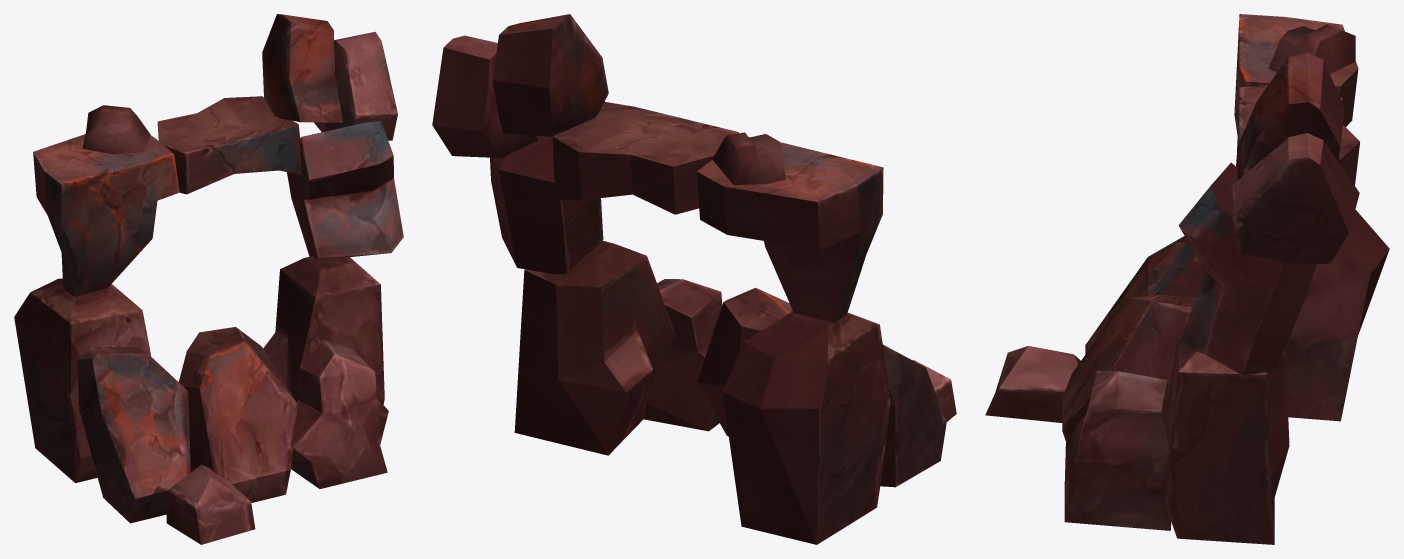
The model's file is huoguanshizhu04.FBX.
The picture shows the model from 3 angles, left to right: view 1: azimuth 30°, elevation 25°; view 2: azimuth 150°, elevation 25°; view 3: azimuth 270°, elevation 25°; orthographic projection. The views are drawn at different scales.
Parts seen in each view (by area): view 1: huoguanshizhu4; view 2: huoguanshizhu4; view 3: huoguanshizhu4.
Part boxes in pixels (box(x1,y1,x2,y2)): huoguanshizhu4: box(14, 14, 403, 544); huoguanshizhu4: box(432, 14, 956, 544); huoguanshizhu4: box(985, 14, 1389, 544).
Size of the model in its own units: 750 by 630 by 804.
